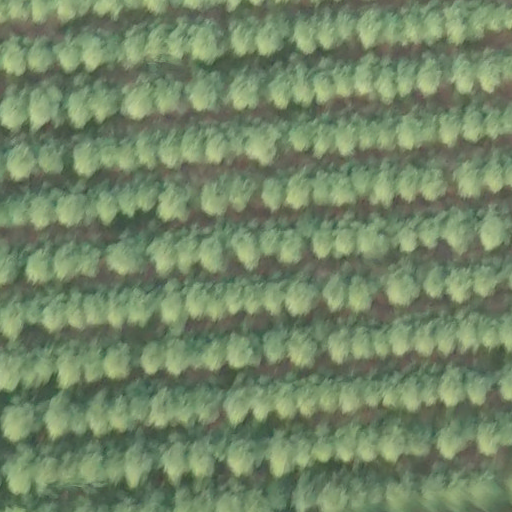eucalipto: (106, 233, 147, 278), (186, 70, 226, 115), (442, 208, 476, 256), (475, 207, 512, 251), (384, 268, 422, 308), (1, 402, 39, 442), (122, 77, 154, 122), (158, 184, 194, 224), (121, 446, 153, 491), (247, 126, 281, 168), (284, 278, 321, 316), (191, 25, 225, 66), (223, 379, 253, 425), (228, 438, 259, 481), (90, 79, 119, 124), (291, 15, 321, 58), (452, 159, 484, 199), (160, 441, 189, 485), (231, 229, 262, 270), (194, 383, 224, 425), (358, 220, 391, 258), (147, 236, 179, 274), (26, 246, 58, 284), (189, 439, 217, 482), (129, 287, 158, 328), (479, 49, 505, 94), (149, 388, 179, 427), (67, 85, 94, 128), (46, 396, 73, 439), (1, 36, 29, 77), (1, 91, 29, 132), (447, 264, 475, 305), (80, 448, 108, 489), (358, 6, 384, 50), (168, 21, 198, 59), (397, 114, 427, 152), (288, 333, 318, 371), (268, 64, 292, 111), (144, 26, 172, 66), (198, 180, 230, 215), (321, 273, 349, 313), (485, 151, 512, 192), (158, 287, 187, 325), (269, 434, 294, 478), (437, 427, 470, 460), (122, 26, 149, 66), (155, 76, 182, 116), (199, 236, 229, 272), (439, 366, 466, 406), (256, 20, 285, 57), (232, 74, 261, 111), (228, 20, 256, 58), (8, 144, 36, 182), (104, 342, 132, 380), (6, 458, 34, 496), (451, 53, 476, 95), (55, 35, 81, 75), (350, 275, 376, 315), (55, 245, 83, 282), (182, 126, 209, 164), (378, 56, 398, 107), (462, 105, 487, 145), (334, 119, 359, 159), (225, 332, 252, 369), (55, 196, 88, 226), (89, 392, 111, 437), (405, 427, 435, 460), (173, 237, 199, 275), (226, 175, 255, 209), (418, 55, 442, 96), (29, 88, 53, 129), (421, 167, 449, 202), (42, 295, 69, 331), (274, 382, 301, 418), (445, 4, 468, 46), (134, 134, 160, 171), (74, 142, 100, 179), (285, 173, 311, 210), (260, 175, 286, 212), (458, 315, 484, 352), (285, 123, 315, 155), (372, 168, 396, 208), (389, 318, 414, 356), (139, 339, 165, 375), (29, 35, 54, 72), (1, 241, 22, 285), (176, 386, 199, 426), (485, 106, 512, 140), (394, 167, 421, 201), (438, 112, 462, 150), (473, 264, 499, 299), (422, 4, 444, 45), (326, 328, 351, 364), (313, 424, 336, 463), (79, 242, 103, 279), (108, 396, 132, 433), (317, 10, 338, 52), (335, 61, 356, 103), (279, 231, 304, 266), (350, 326, 375, 361), (336, 425, 359, 463), (396, 57, 417, 98), (422, 265, 448, 298), (205, 333, 227, 372), (1, 305, 26, 339), (476, 421, 501, 455), (294, 64, 314, 106), (315, 121, 336, 161), (66, 290, 87, 330), (376, 116, 398, 154), (437, 318, 459, 356), (38, 143, 64, 175), (159, 134, 184, 167), (262, 329, 287, 362), (56, 356, 81, 389), (82, 37, 104, 74), (466, 371, 488, 408), (329, 177, 356, 207), (30, 199, 56, 230), (416, 371, 439, 406), (418, 216, 443, 248), (166, 337, 186, 377), (402, 373, 422, 413), (185, 284, 206, 322), (263, 281, 285, 317), (37, 458, 61, 491), (341, 380, 364, 414), (298, 378, 318, 417), (128, 389, 148, 428), (252, 380, 271, 421), (355, 60, 376, 97), (244, 332, 265, 369), (314, 68, 334, 106), (293, 430, 313, 468), (415, 320, 436, 356), (83, 295, 109, 324), (382, 378, 406, 409), (335, 226, 358, 258), (223, 284, 246, 316), (319, 381, 341, 414), (382, 431, 404, 464), (405, 7, 424, 45), (108, 291, 127, 329), (373, 324, 393, 360), (384, 11, 405, 45), (358, 429, 379, 463), (204, 134, 226, 166), (312, 172, 333, 205), (351, 166, 373, 197), (98, 194, 119, 226), (337, 8, 356, 43), (311, 228, 333, 258), (242, 284, 264, 314), (1, 361, 23, 391), (359, 119, 378, 153), (119, 185, 138, 219), (365, 376, 385, 407), (105, 451, 122, 486), (104, 35, 122, 68), (137, 183, 158, 211), (398, 226, 418, 255), (70, 402, 87, 436), (117, 142, 135, 174), (469, 10, 488, 40), (9, 201, 30, 228), (260, 230, 281, 257), (487, 2, 504, 32), (84, 359, 104, 384), (498, 318, 512, 352), (101, 144, 119, 170), (498, 415, 512, 447), (484, 326, 500, 349), (504, 7, 512, 30)
